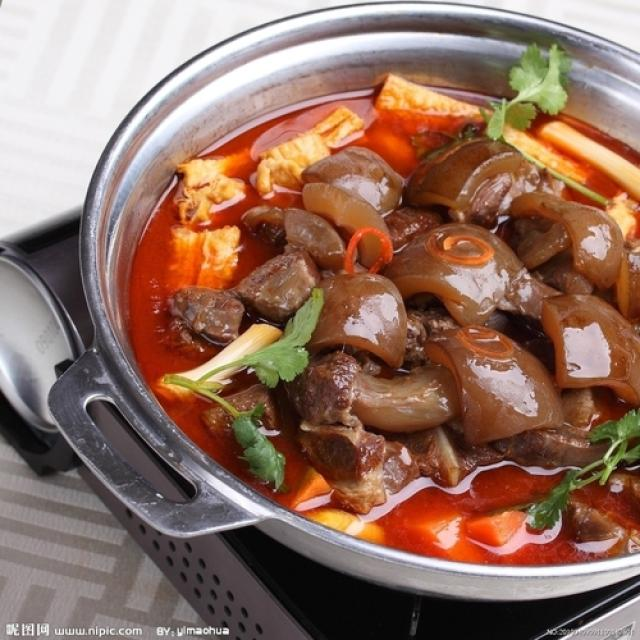汤锅炖物: (83, 42, 635, 592)
